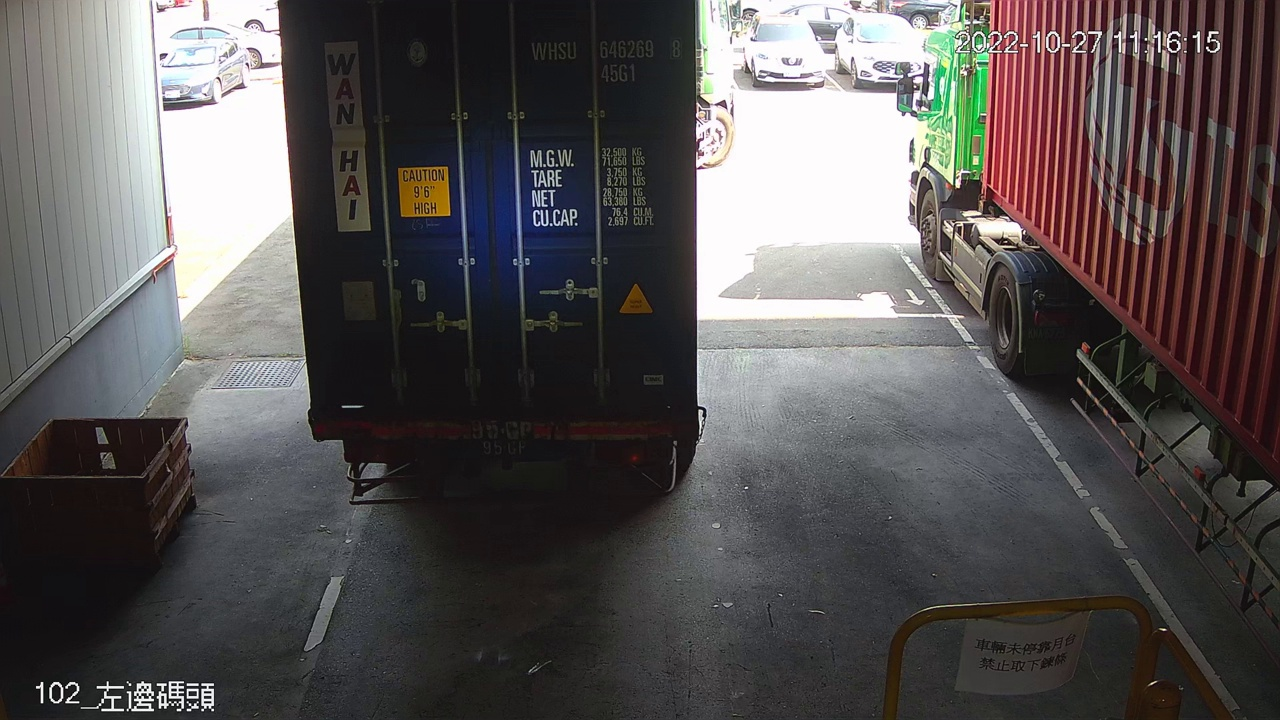container: (525, 31, 690, 86)
